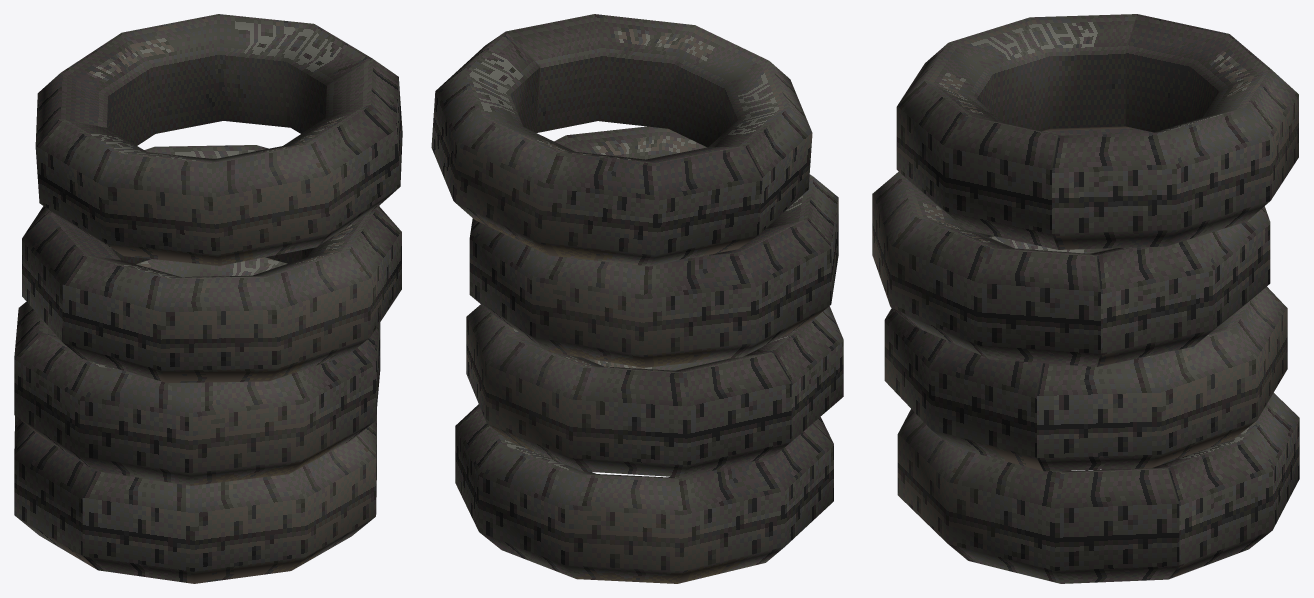
Rendered from tire_stack.glb.
3 views of the same model, side by side, from view 1: azimuth 30°, elevation 25°; view 2: azimuth 150°, elevation 25°; view 3: azimuth 270°, elevation 25° (orthographic). The views are drawn at different scales.
Parts seen in each view (by area): view 1: tire_stack; view 2: tire_stack; view 3: tire_stack.
Boxes of the visible parts, box(x1,y1,x2,y2) form: tire_stack: box(14, 14, 402, 583); tire_stack: box(431, 14, 843, 583); tire_stack: box(872, 14, 1299, 583).
Bounding box in the file's own units: 0.6994 × 0.8259 × 0.6985.
Materials: 1 (1 with a texture image).
